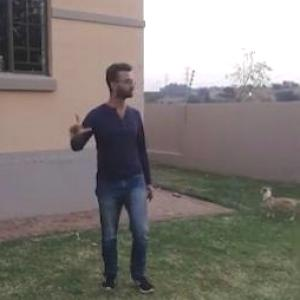land_hand: (67, 108, 102, 146)
